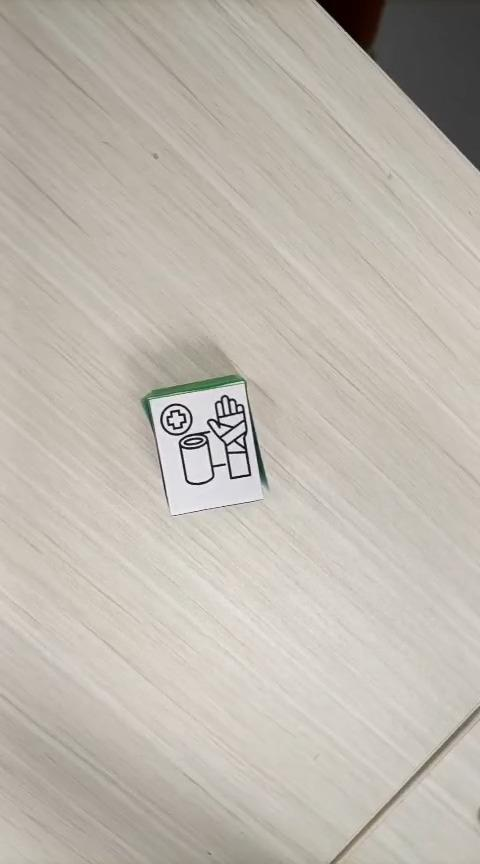Bandages: (140, 373, 264, 516)
